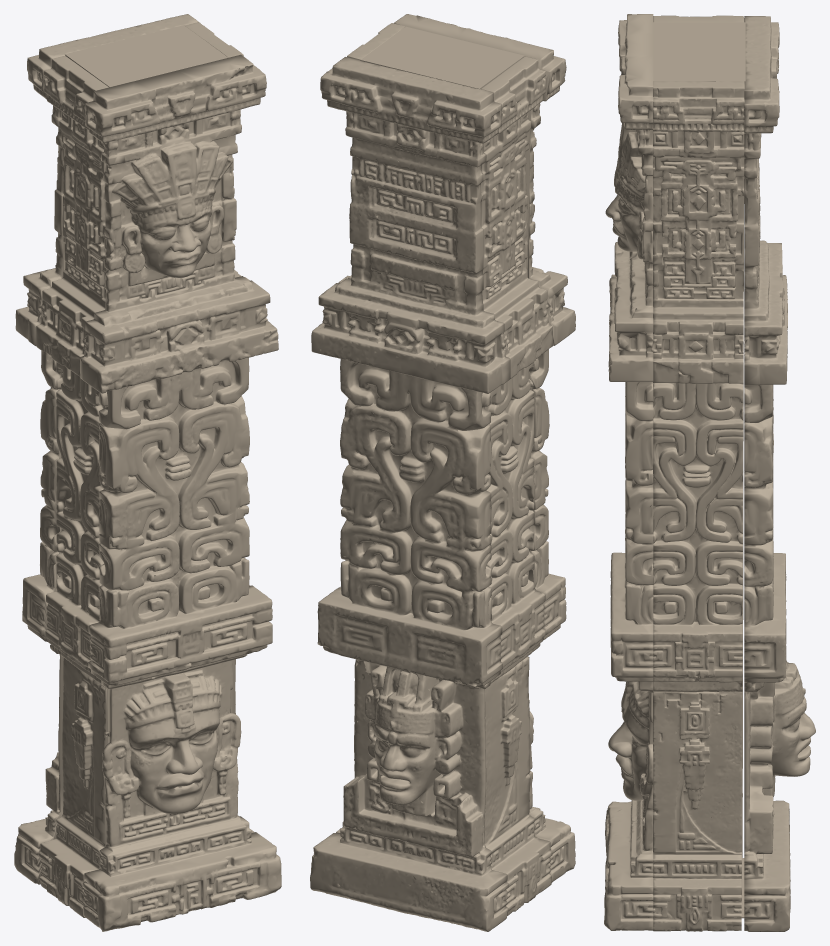
File: column.glb
3 views of the same model, side by side, from view 1: azimuth 30°, elevation 25°; view 2: azimuth 150°, elevation 25°; view 3: azimuth 270°, elevation 25° (orthographic).
Parts seen in each view (by area): view 1: col-Front, Cube; view 2: col-Front, Cube; view 3: col-Front, Cube.
Part boxes in pixels (bbox=[...]): col-Front: bbox=[14, 14, 281, 931]; Cube: bbox=[64, 25, 228, 87]; col-Front: bbox=[310, 14, 575, 931]; Cube: bbox=[360, 26, 524, 89]; col-Front: bbox=[604, 14, 815, 931]; Cube: bbox=[653, 22, 745, 918].
Bounding box in the file's own units: 1.14 × 5.01 × 1.15.
